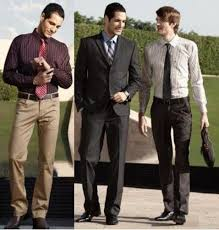F_M_suit jacket: (74, 28, 141, 110)
F_belt: (12, 88, 65, 106), (149, 93, 193, 108)
F_dress pants: (78, 113, 136, 220), (150, 105, 200, 219)
